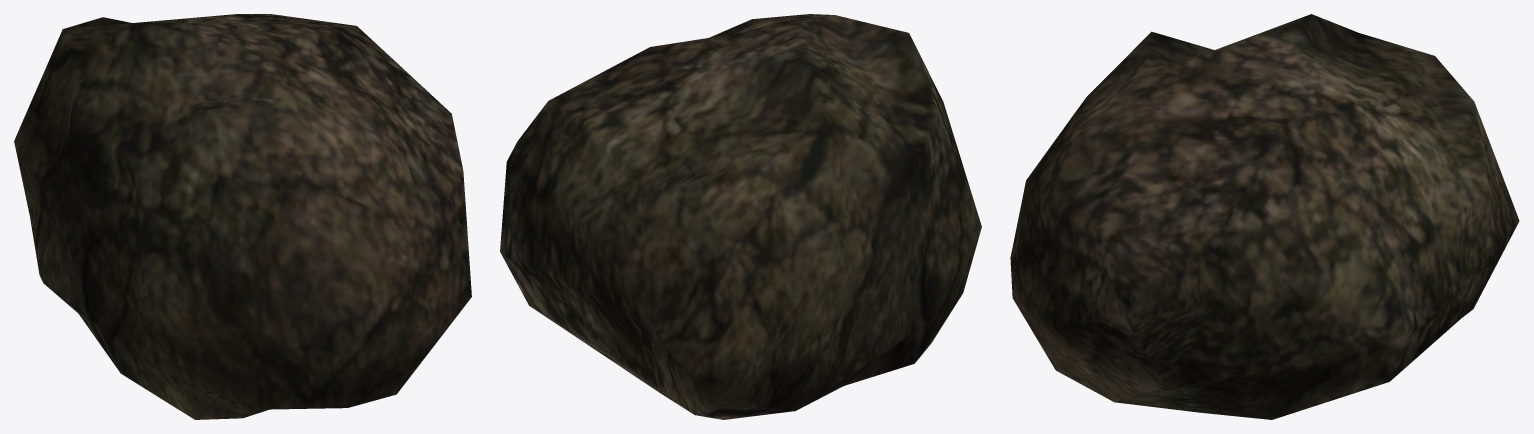
Rendered from stone_med01_brown.dae.
3 views of the same model, side by side, from view 1: azimuth 30°, elevation 25°; view 2: azimuth 150°, elevation 25°; view 3: azimuth 270°, elevation 25° (orthographic). The views are drawn at different scales.
Visible parts, largest first — view 1: stone_med01_mesh; view 2: stone_med01_mesh; view 3: stone_med01_mesh.
Boxes of the visible parts, bbox=[...] form: stone_med01_mesh: bbox=[14, 14, 471, 419]; stone_med01_mesh: bbox=[500, 14, 981, 419]; stone_med01_mesh: bbox=[1010, 14, 1519, 419].
Size of the model in its own units: 0.5873 by 0.4941 by 0.7098.
